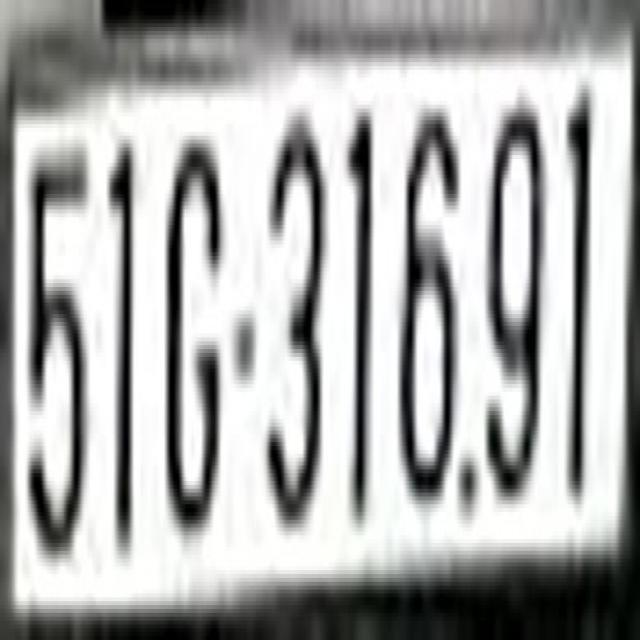1: (562, 81, 591, 516), (343, 93, 372, 528), (108, 132, 136, 555)
3: (266, 112, 320, 536)
5: (30, 151, 86, 547)
6: (401, 89, 456, 520)
9: (486, 100, 540, 497)
G: (165, 116, 222, 543)
